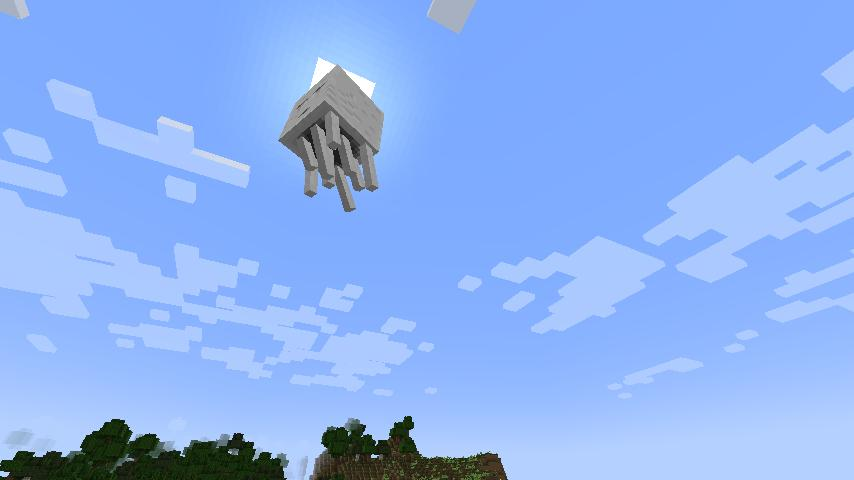ghast: (274, 64, 387, 214)
